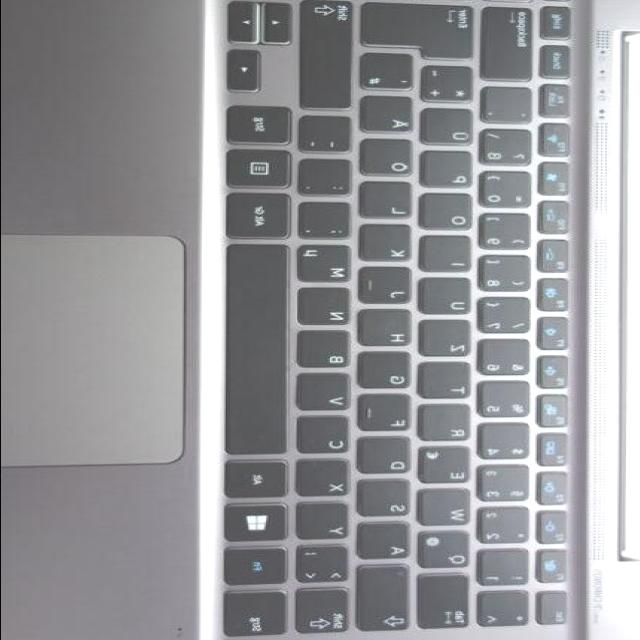0: (484, 175, 538, 213)
1: (483, 553, 535, 590)
2: (483, 510, 535, 548)
3: (482, 469, 536, 506)
4: (484, 427, 536, 464)
5: (482, 385, 536, 423)
6: (482, 342, 536, 379)
7: (481, 300, 536, 337)
8: (483, 259, 538, 296)
9: (484, 217, 536, 254)
a: (360, 526, 414, 562)
accent: (487, 91, 539, 129)
ae: (365, 100, 419, 138)
alt-left: (228, 464, 292, 502)
altgr-right: (229, 195, 296, 243)
b: (301, 333, 355, 371)
c: (301, 419, 355, 458)
caret: (481, 595, 535, 631)
comma: (302, 206, 356, 244)
d: (362, 441, 416, 478)
del: (485, 8, 539, 83)
e: (421, 450, 476, 488)
enter: (365, 5, 481, 63)
f: (362, 398, 416, 436)
g: (362, 355, 416, 392)
h: (362, 313, 417, 350)
hash: (365, 56, 419, 94)
i: (424, 239, 478, 277)
j: (362, 271, 417, 308)
k: (363, 227, 417, 265)
keyboard: (210, 0, 590, 640)
l: (363, 186, 418, 223)
less: (299, 548, 354, 586)
m: (301, 249, 356, 287)
minus: (302, 121, 357, 158)
n: (301, 291, 356, 329)
o: (424, 197, 478, 235)
oe: (365, 143, 419, 181)
p: (426, 155, 478, 193)
plus: (424, 70, 479, 108)
point: (302, 163, 357, 201)
q: (421, 535, 475, 572)
r: (423, 408, 477, 446)
s: (362, 483, 416, 521)
shift-left: (298, 592, 354, 639)
shift-lock: (359, 568, 415, 635)
shift-right: (304, 2, 358, 114)
space: (229, 247, 293, 459)
ss: (486, 134, 538, 171)
strg-left: (226, 594, 292, 640)
strg-right: (229, 110, 296, 149)
t: (423, 365, 477, 402)
tab: (420, 578, 475, 633)
u: (423, 282, 477, 319)
ue: (424, 112, 479, 150)
v: (301, 376, 355, 414)
w: (423, 492, 477, 530)
x: (299, 463, 354, 500)
y: (299, 506, 353, 543)
z: (423, 323, 477, 360)
